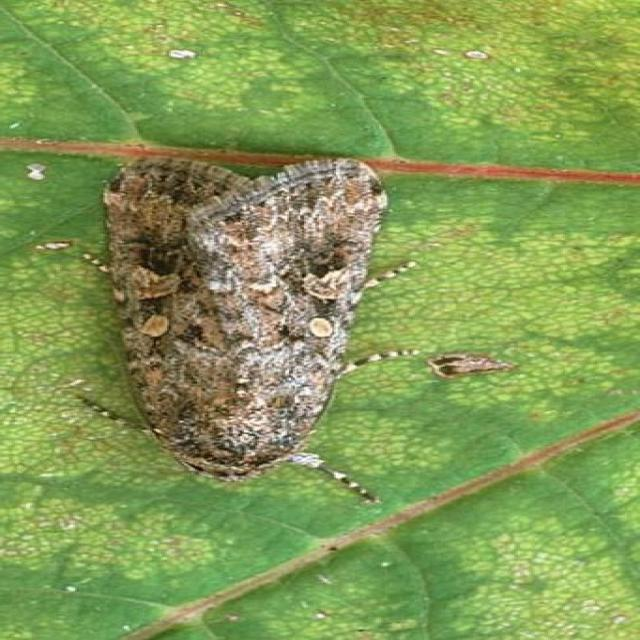army worm: (73, 149, 398, 506)
